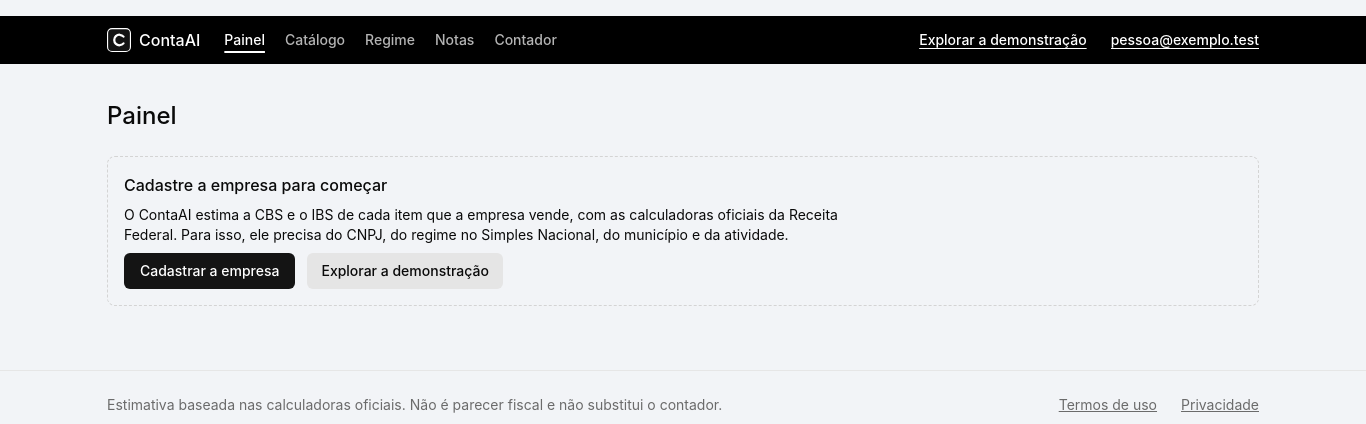
menu da conta na barra › o botão mostra o e-mail; abre a organização, Sua conta e Sair
(page scrolled)
Click the button "pessoa@exemplo.test": (1185, 40) [1111,22,1259,58]
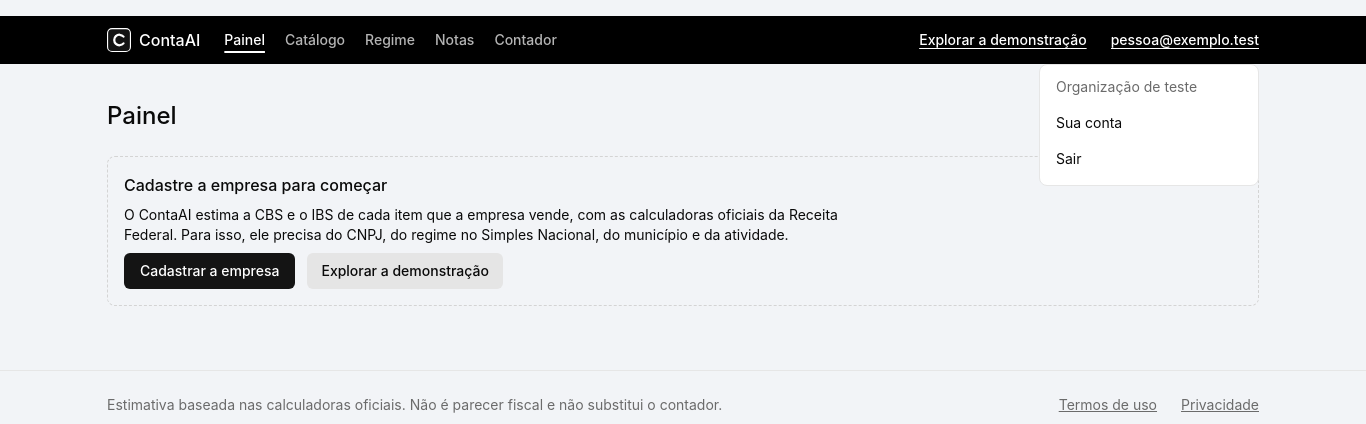
Expected: the text "Organização de teste" is shown, [1056,78,1197,95]
Expected: the button "Sair" is shown, [1048,141,1250,177]
